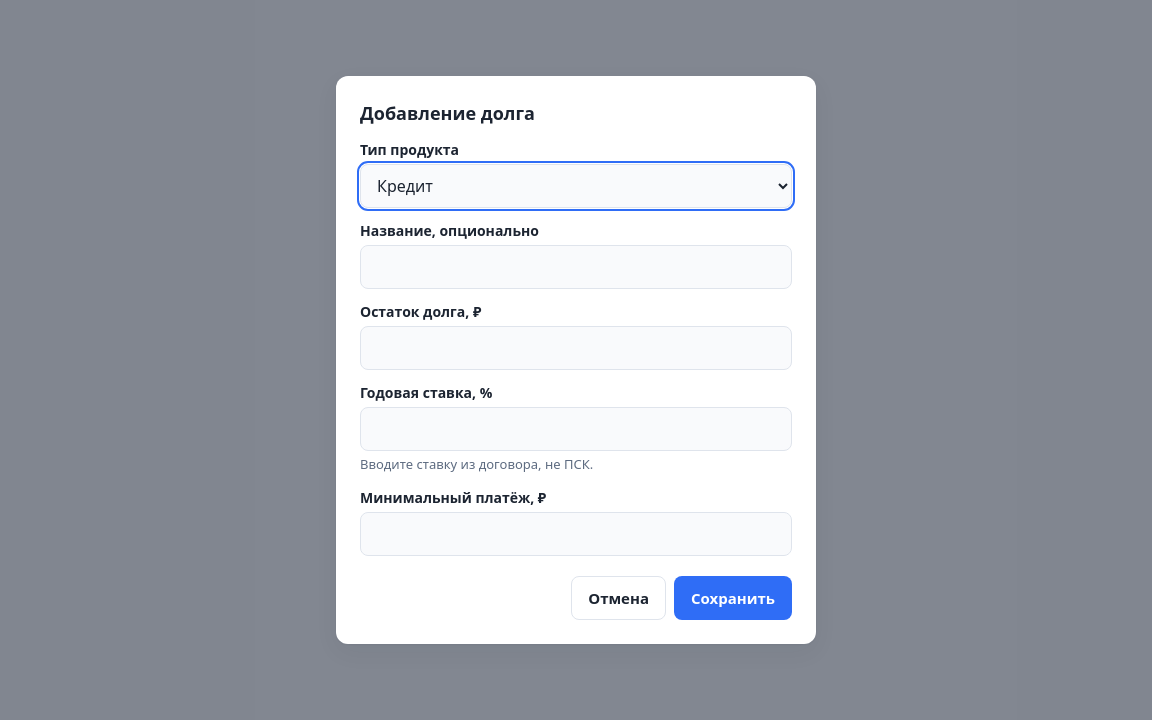
Test: FE-007: валидация формы добавления долга › не принимает остаток 0, ставку больше 100 и платёж 0
Type "0" into the number field labelled "Остаток долга, ₽". click: {"x": 576, "y": 348}
box: [360,326,792,370]
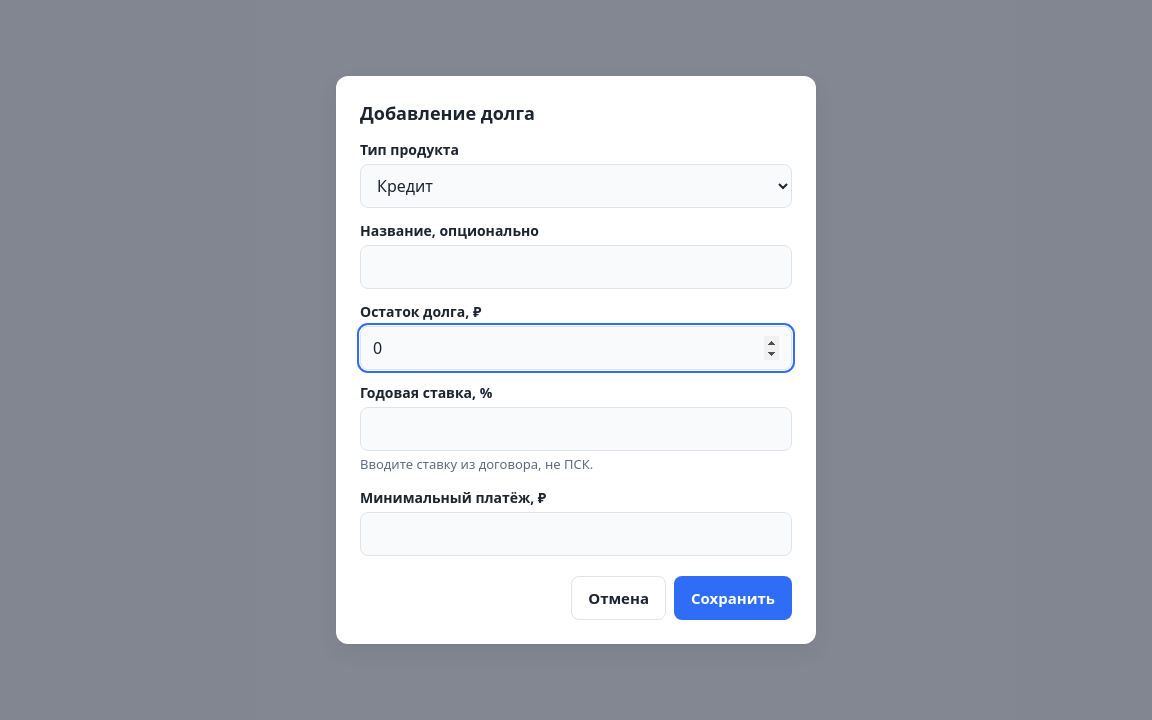
Type "101" into the number field labelled "Годовая ставка, %". click: {"x": 576, "y": 429}
box: [360,407,792,451]
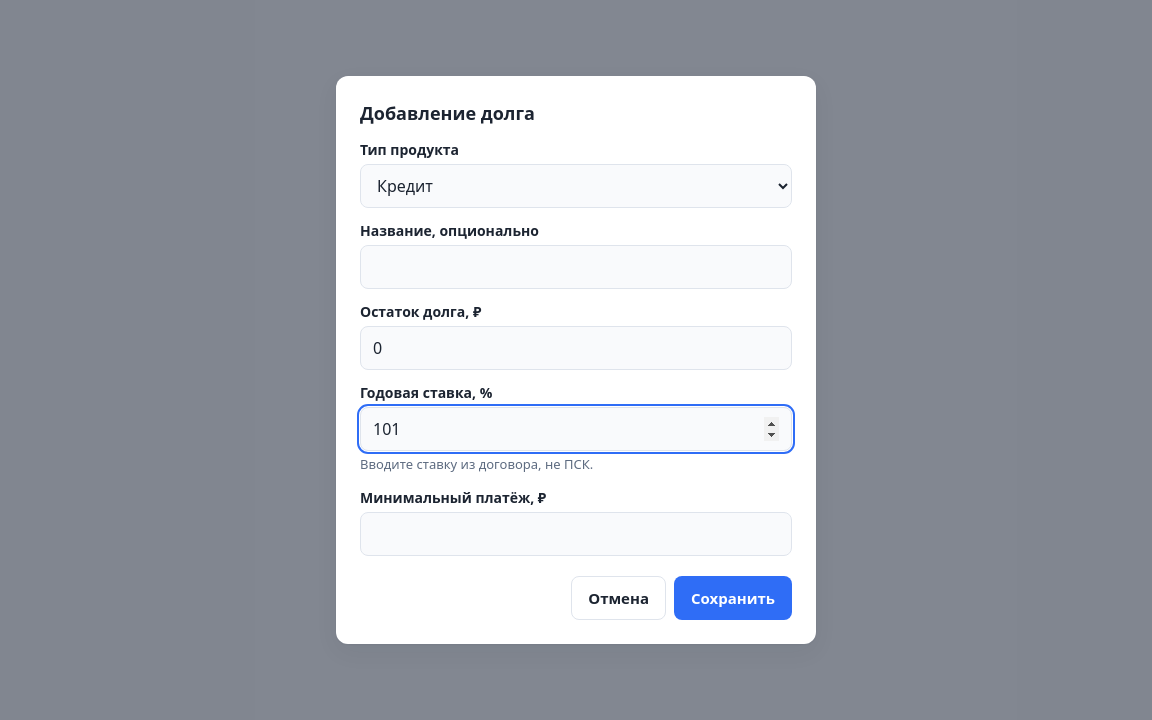
Type "0" into the number field labelled "Минимальный платёж, ₽". click: {"x": 576, "y": 534}
box: [360,512,792,556]
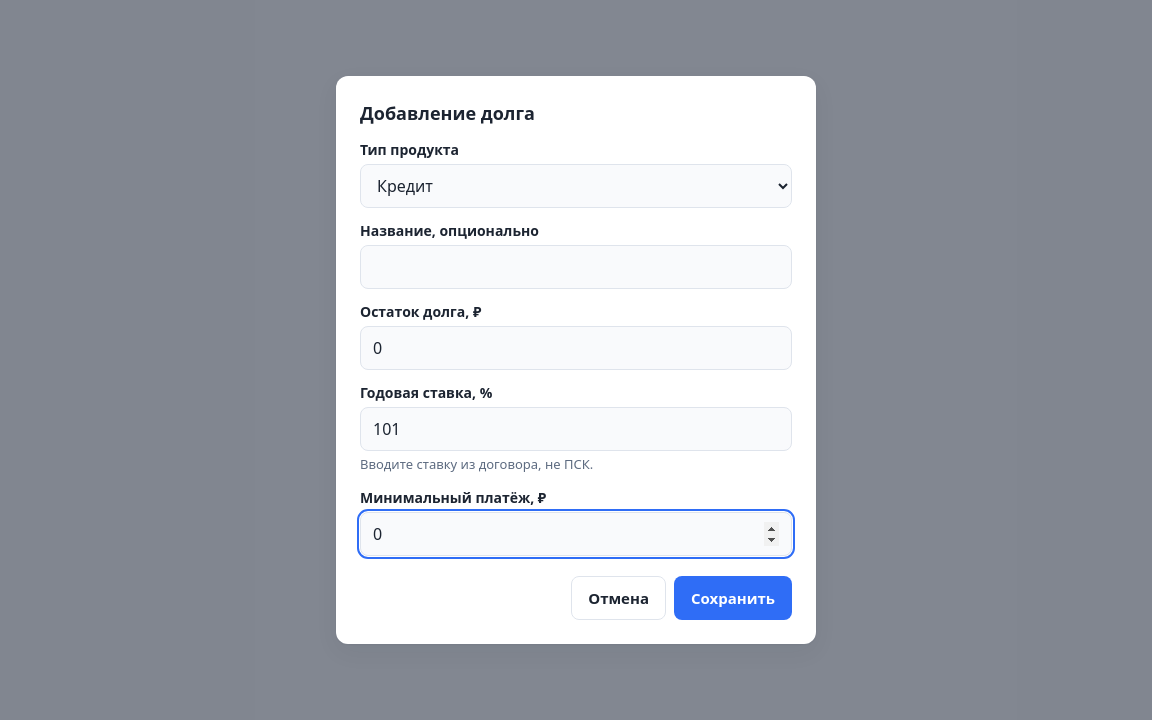
Click the button "Сохранить". click: {"x": 733, "y": 598}
box: [674,576,792,620]
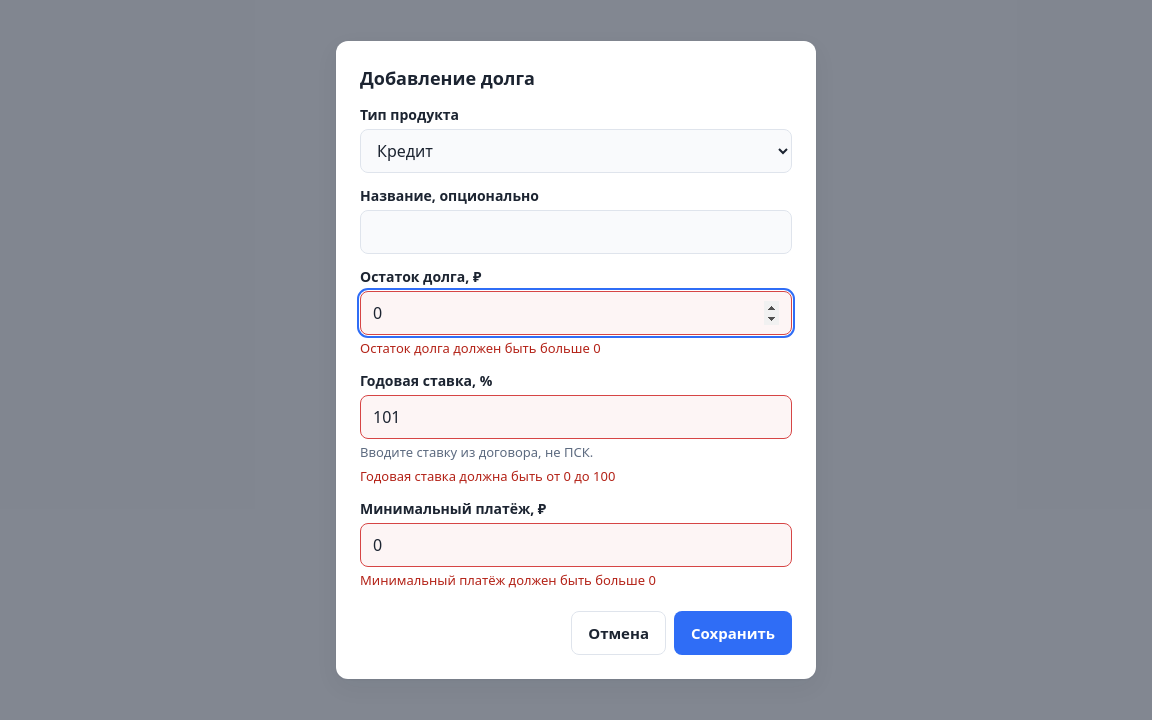
expect the text "Остаток долга должен быть больше 0" is shown: met, box [360,339,601,357]
expect the text "Годовая ставка должна быть от 0 до 100" is shown: met, box [360,467,615,485]
expect the text "Минимальный платёж должен быть больше 0" is shown: met, box [360,571,656,589]
